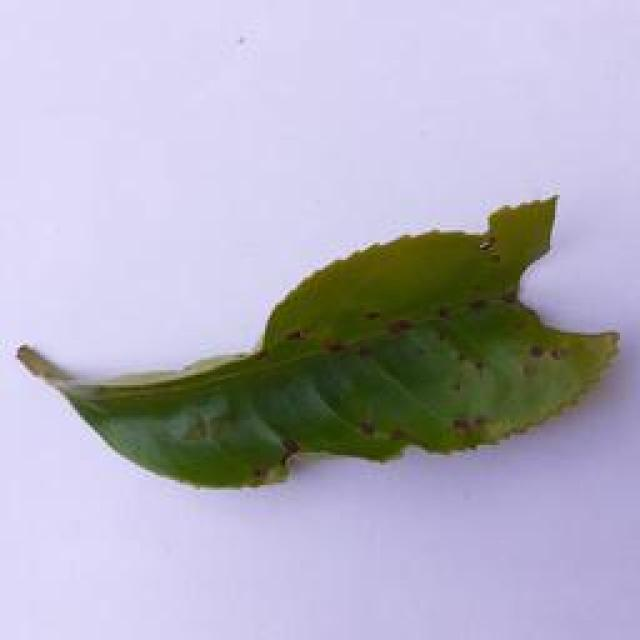Helopeltis: (24, 193, 624, 489)
